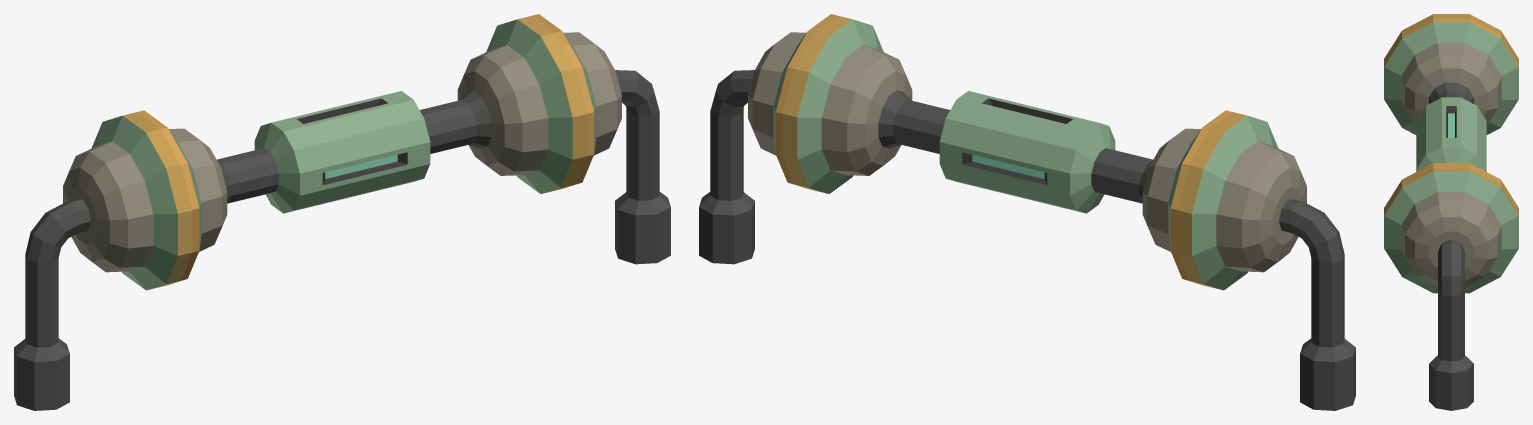
File: entity111096.glb
The picture shows the model from 3 angles, left to right: view 1: azimuth 30°, elevation 25°; view 2: azimuth 150°, elevation 25°; view 3: azimuth 270°, elevation 25°; orthographic projection. The views are drawn at different scales.
Visible parts, largest first — view 1: node_SM_Bld_Greeble_13; view 2: node_SM_Bld_Greeble_13; view 3: node_SM_Bld_Greeble_13.
Boxes of the visible parts, left/top/right/bottom form: node_SM_Bld_Greeble_13: left=14, top=14, right=670, bottom=410; node_SM_Bld_Greeble_13: left=699, top=14, right=1355, bottom=410; node_SM_Bld_Greeble_13: left=1384, top=14, right=1518, bottom=410.
Bounding box in the file's own units: 3.45 × 1.28 × 0.7991.
1 material, 1 textured.
